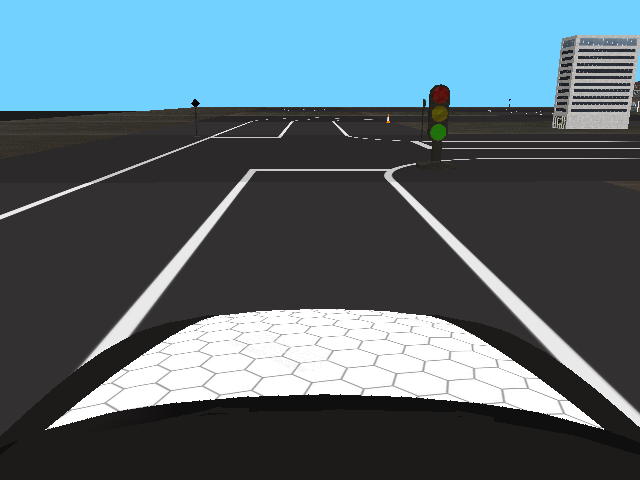green_light: (427, 84, 451, 142)
